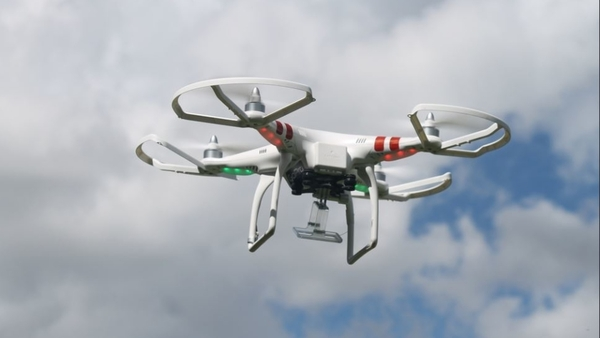drone: (132, 74, 513, 268)
